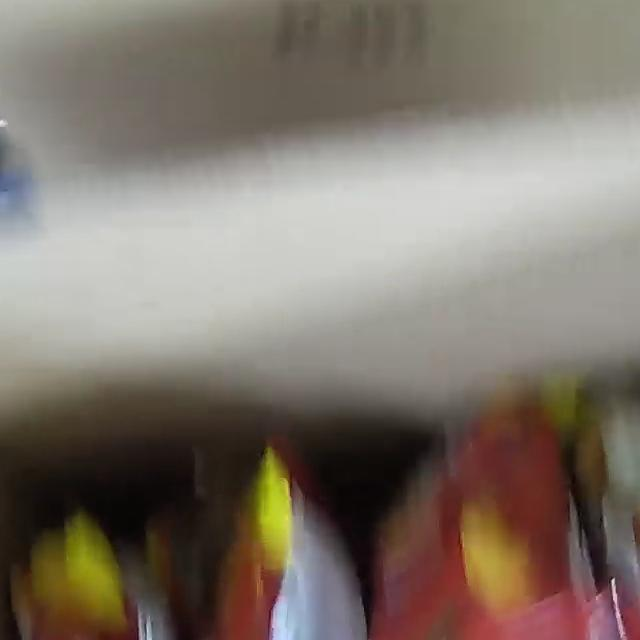masala: (6, 359, 640, 640)
